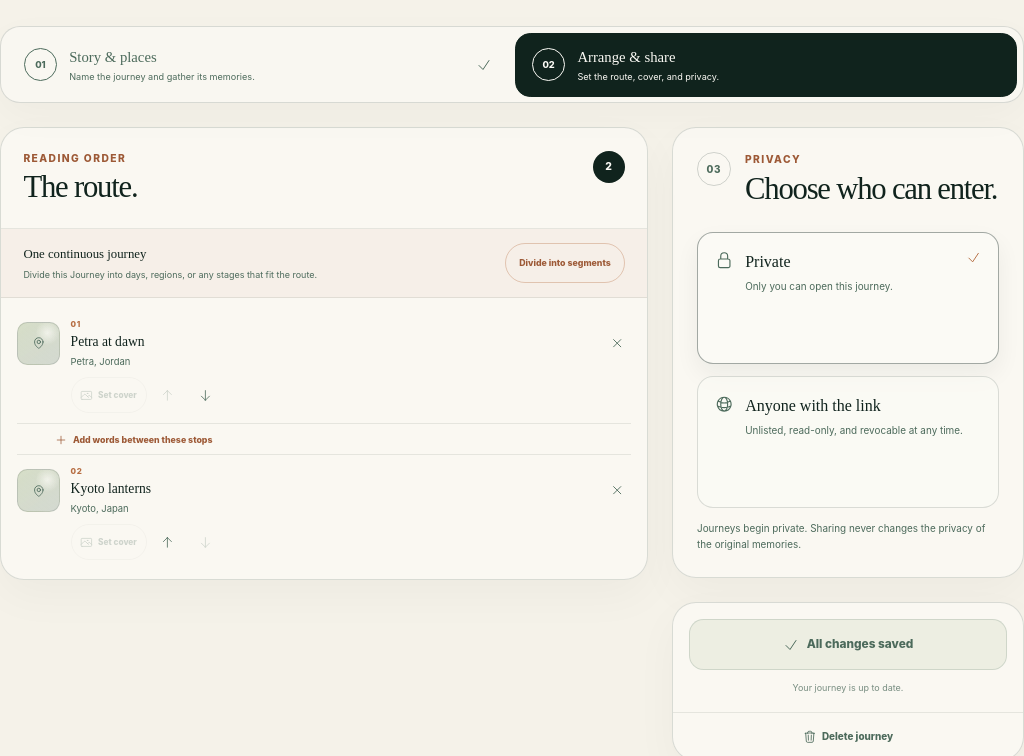
Test: chapter creation and sharing UI › keeps a stale journey when versioned deletion reports a conflict
The width and height of the screenshot is (1024, 756).
(page scrolled)
Click the button "Delete journey".
click(848, 737)  # box [803, 729, 893, 744]
(page scrolled)
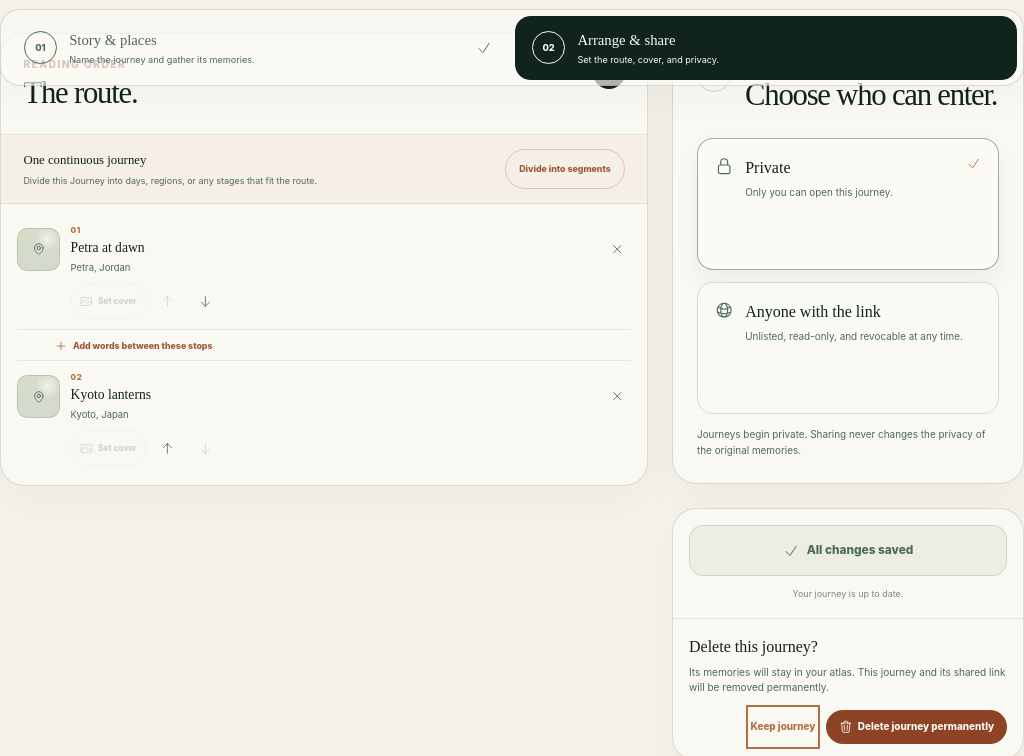
Click the button "Delete journey permanently".
click(916, 727)  # box [826, 710, 1007, 744]
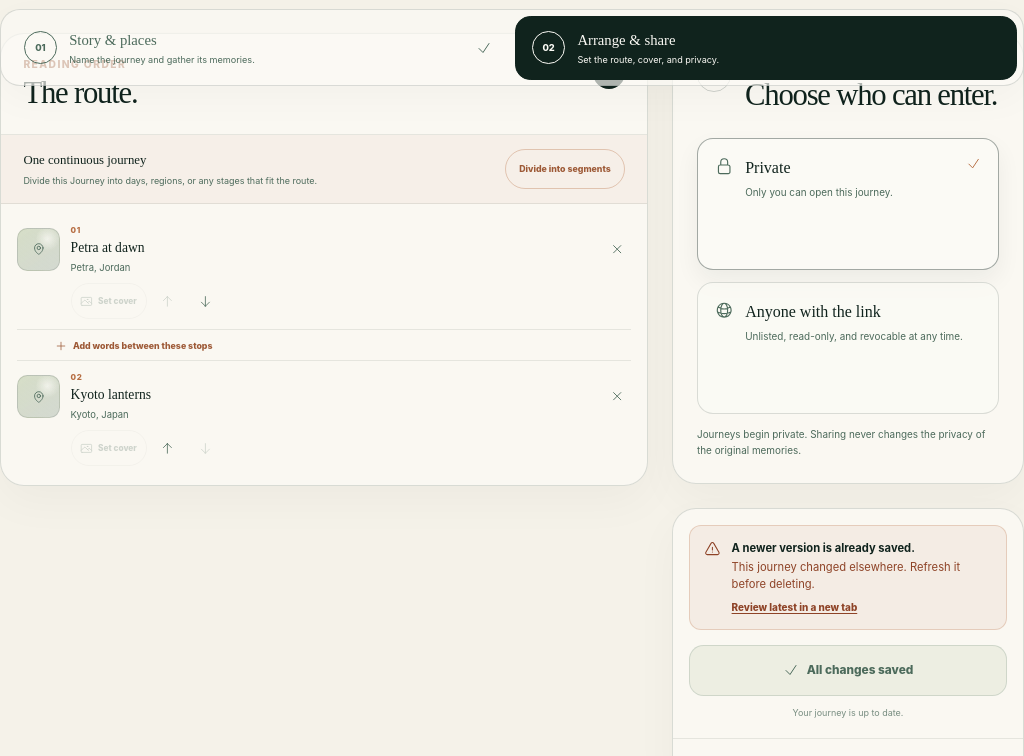
Result: the message shows "A newer version is already saved." at [732, 541, 915, 555]
Result: the message shows "This journey changed elsewhere. Refresh it before deleting." at [732, 560, 960, 591]
Result: the dialog is gone
